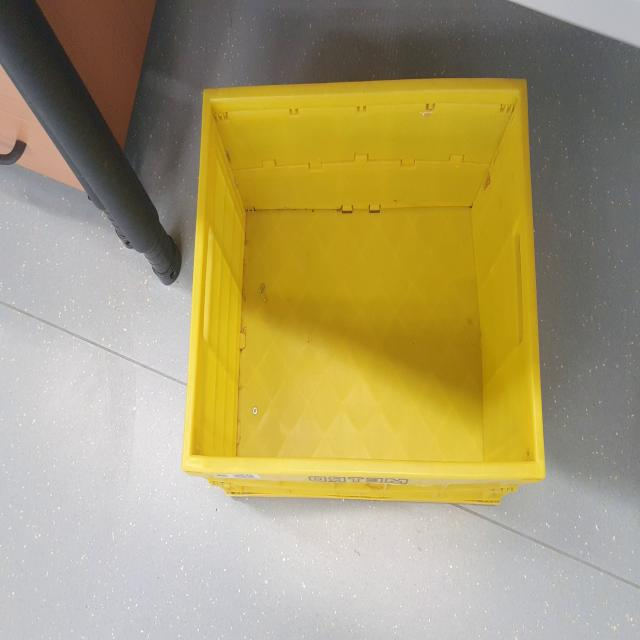box: (178, 62, 552, 556)
